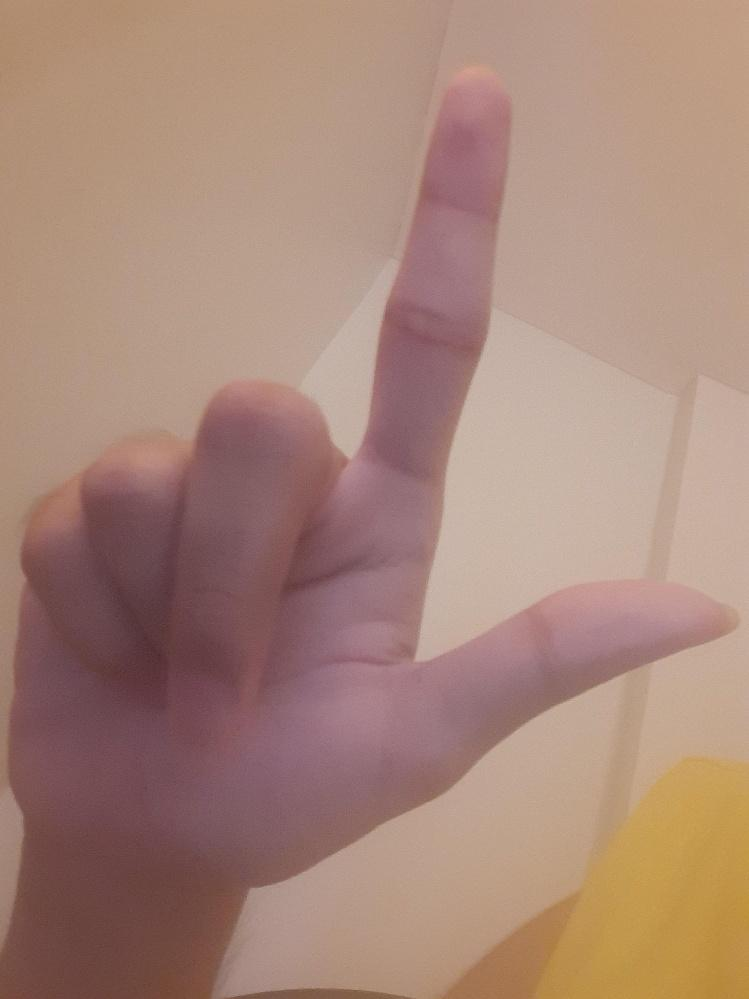l: (2, 60, 736, 880)
